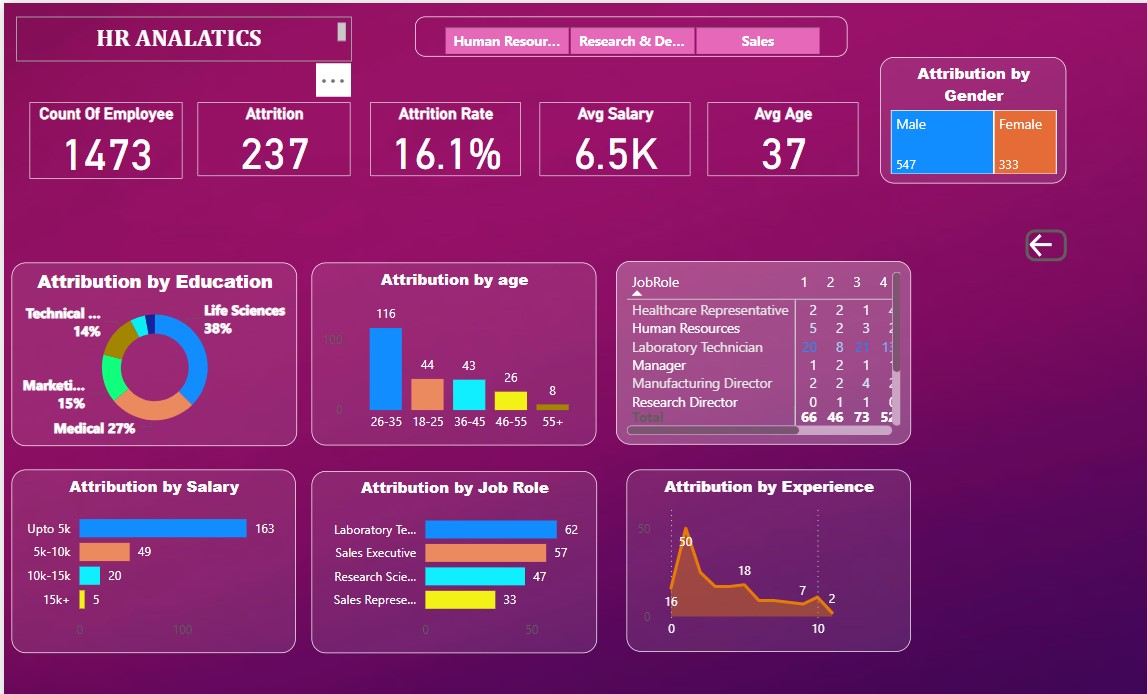

The dashboard page shown, as its layout file describes it:
{"tool":"powerbi","page":{"name":"Page 1","canvas":[1280,720],"ordinal":0},"visuals":[{"type":"card","title":"Count Of Employee","fields":{"Values":["CountNonNull(HR_Analytics.EmpID)"]},"box":[25,96.9,150,75],"z":0},{"type":"card","title":"Attrition","fields":{"Values":["Sum(HR_Analytics.AttritionCount)"]},"box":[189.6,96.9,150,72.9],"z":1000},{"type":"card","title":"Attrition Rate","fields":{"Values":["HR_Analytics.Attrition Rate"]},"box":[358.3,96.9,147.9,72.9],"z":2000},{"type":"card","title":"Avg Salary","fields":{"Values":["Avg(HR_Analytics.MonthlyIncome)"]},"box":[525,96.9,147.9,72.9],"z":3000},{"type":"card","title":"Avg Age","fields":{"Values":["Avg(HR_Analytics.Age)"]},"box":[689.6,96.9,147.9,72.9],"z":4000},{"type":"donutChart","title":"Attribution by Education","fields":{"Category":["HR_Analytics.EducationField"],"Y":["Sum(HR_Analytics.AttritionCount)"]},"box":[6.8,254.1,279.7,179.7],"z":5000},{"type":"clusteredColumnChart","title":"Attribution by age","fields":{"Category":["HR_Analytics.AgeGroup"],"Y":["Sum(HR_Analytics.AttritionCount)"]},"box":[301.4,254.1,279,179],"z":6000},{"type":"pivotTable","fields":{"Rows":["HR_Analytics.JobRole"],"Columns":["HR_Analytics.JobSatisfaction"],"Values":["Sum(HR_Analytics.AttritionCount)"]},"box":[600,252.7,289,179.7],"z":7000},{"type":"barChart","title":"Attribution by Salary","fields":{"Category":["HR_Analytics.SalarySlab"],"Y":["Sum(HR_Analytics.AttritionCount)"]},"box":[6.8,456.8,278.4,179.7],"z":8000},{"type":"barChart","title":"Attribution by Job Role","fields":{"Y":["Sum(HR_Analytics.AttritionCount)"],"Category":["HR_Analytics.JobRole"]},"box":[301.4,458.1,279.7,178.4],"z":9000},{"type":"areaChart","title":"Attribution by Experience","fields":{"Category":["HR_Analytics.YearsAtCompany"],"Y":["Sum(HR_Analytics.AttritionCount)"]},"box":[610.8,456.8,278.4,178.4],"z":10000},{"type":"treemap","title":"Attribution by Gender","fields":{"Values":["CountNonNull(HR_Analytics.AttritionCount)"],"Group":["HR_Analytics.Gender"]},"box":[859.5,52.7,182.4,124.3],"z":11000},{"type":"slicer","fields":{"Values":["HR_Analytics.Department"]},"box":[402.7,13.5,424.3,39.2],"z":12000},{"type":"textbox","box":[12.2,13.5,328.4,43.2],"z":13000},{"type":"actionButton","box":[1001.4,221.6,40.5,31.1],"z":14000}]}

Visuals, with their boxes on the page's 1280x720 design canvas (x1, y1, x2, y2). These are canvas units, not pixel positions in the 1147x694 screenshot, which may show the page scaled, cropped or inside an application window:
"Count Of Employee" card: [x1=25, y1=97, x2=175, y2=172]
"Attrition" card: [x1=190, y1=97, x2=340, y2=170]
"Attrition Rate" card: [x1=358, y1=97, x2=506, y2=170]
"Avg Salary" card: [x1=525, y1=97, x2=673, y2=170]
"Avg Age" card: [x1=690, y1=97, x2=838, y2=170]
"Attribution by Education" donutChart: [x1=7, y1=254, x2=286, y2=434]
"Attribution by age" clusteredColumnChart: [x1=301, y1=254, x2=580, y2=433]
pivotTable - HR_Analytics.JobRole x HR_Analytics.JobSatisfaction: [x1=600, y1=253, x2=889, y2=432]
"Attribution by Salary" barChart: [x1=7, y1=457, x2=285, y2=636]
"Attribution by Job Role" barChart: [x1=301, y1=458, x2=581, y2=636]
"Attribution by Experience" areaChart: [x1=611, y1=457, x2=889, y2=635]
"Attribution by Gender" treemap: [x1=860, y1=53, x2=1042, y2=177]
slicer - HR_Analytics.Department: [x1=403, y1=14, x2=827, y2=53]
textbox: [x1=12, y1=14, x2=341, y2=57]
actionButton: [x1=1001, y1=222, x2=1042, y2=253]
